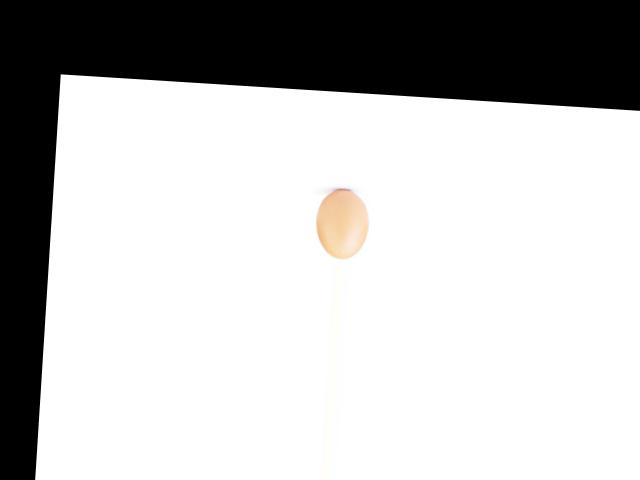egg: (314, 187, 369, 260)
